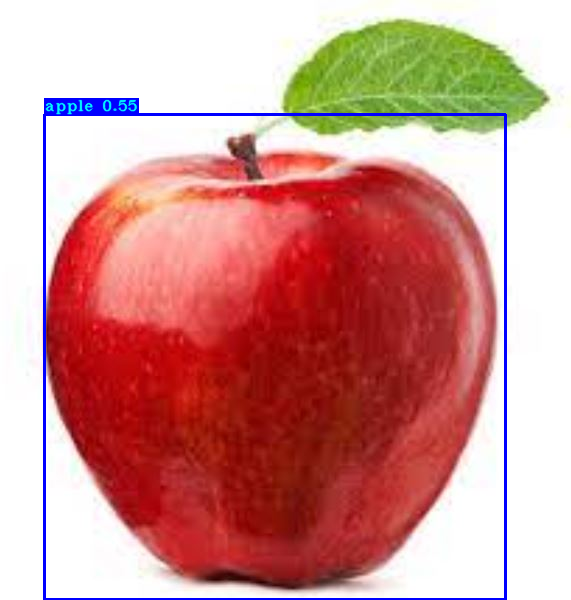apple: (44, 114, 505, 599)
